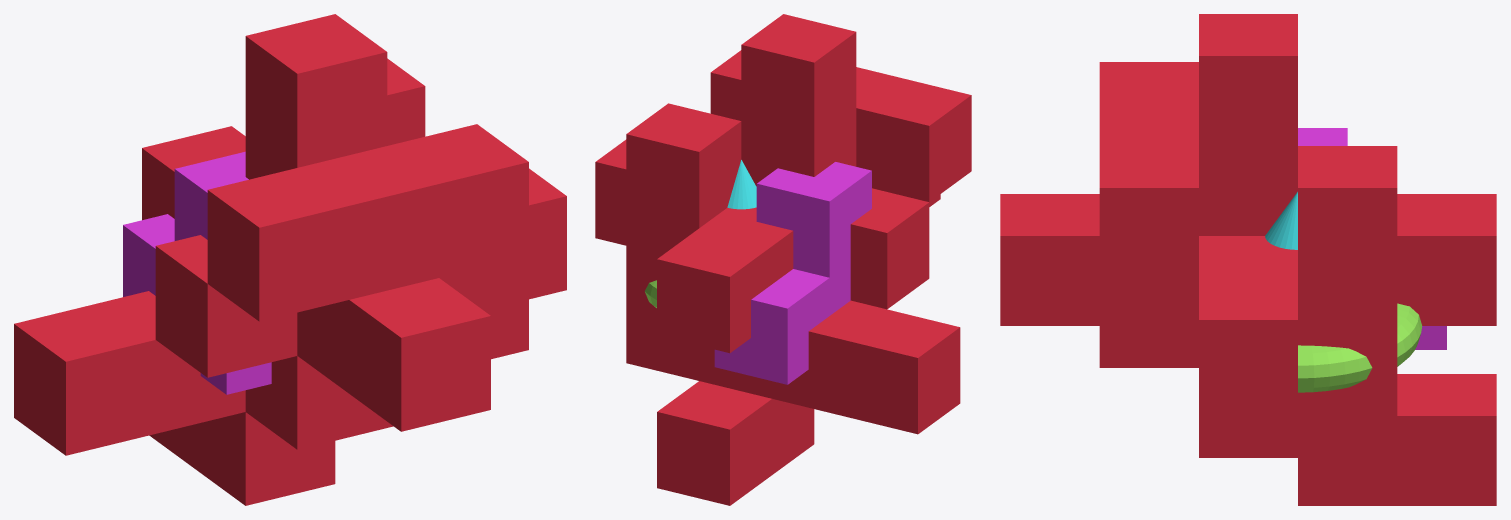
3 renders of one model, left to right at view 1: azimuth 30°, elevation 25°; view 2: azimuth 150°, elevation 25°; view 3: azimuth 270°, elevation 25°, orthographic. The views are drawn at different scales.
Parts seen in each view (by area): view 1: Random, Cube; view 2: Random, Cube, Cone; view 3: Random, Torus, Cube, Cone.
Part boxes in pixels (x1,y1,x2,y2): Random: (14, 14, 566, 505); Cube: (123, 151, 271, 394); Random: (595, 14, 971, 505); Cube: (714, 162, 871, 384); Cone: (727, 160, 756, 209); Random: (1000, 14, 1496, 505); Torus: (1298, 303, 1422, 392); Cube: (1298, 128, 1446, 349); Cone: (1265, 191, 1297, 249).
Size of the model in its own units: 500 by 500 by 500.
